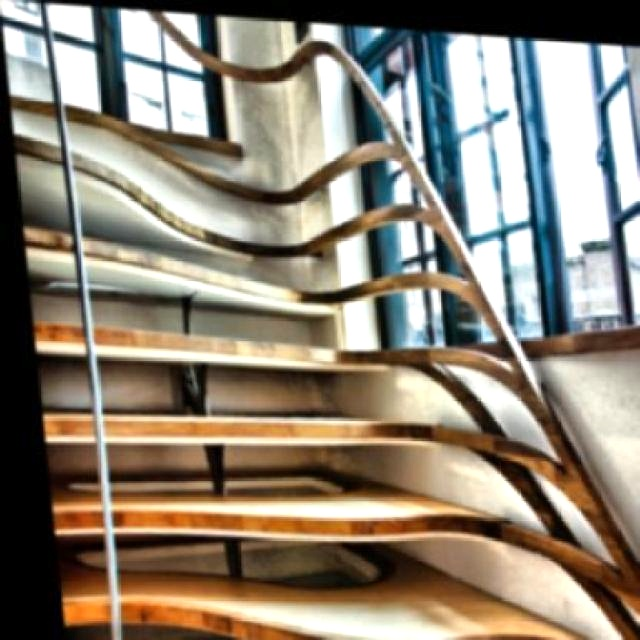stair: (0, 0, 437, 638)
